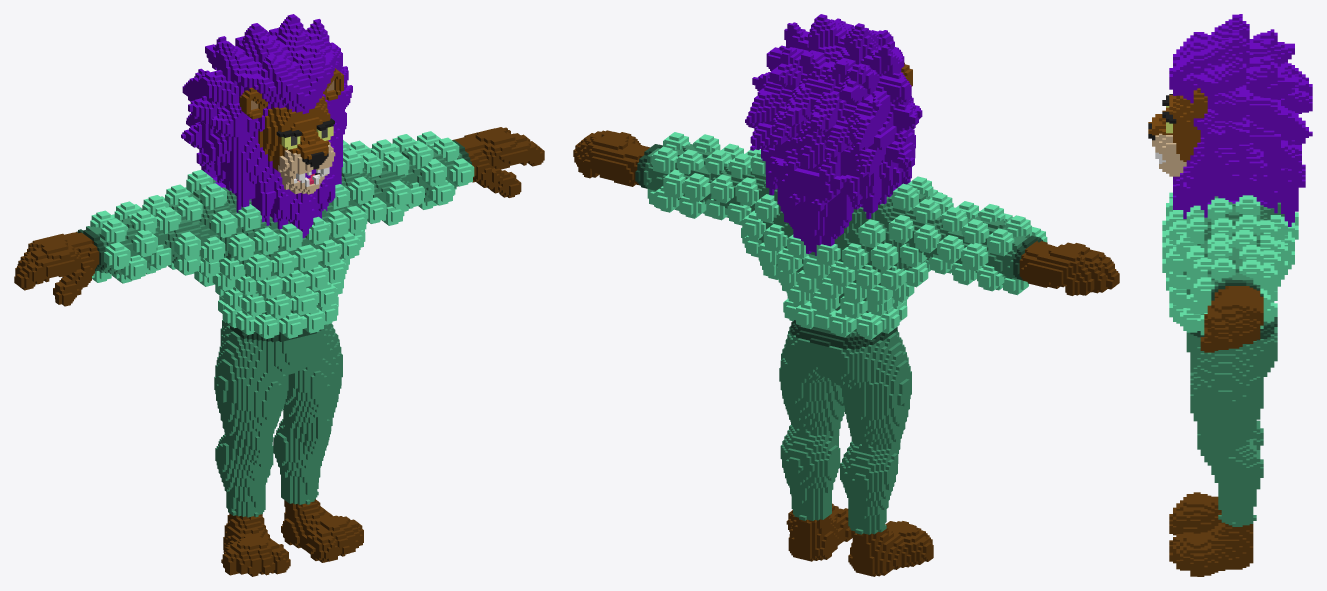
The picture shows the model from 3 angles, left to right: view 1: azimuth 30°, elevation 25°; view 2: azimuth 150°, elevation 25°; view 3: azimuth 270°, elevation 25°; orthographic projection. The views are drawn at different scales.
Visible parts, largest first — view 1: open; view 2: open; view 3: open.
Part boxes in pixels (box(x1,y1,x2,y2)): open: box(14, 14, 544, 576); open: box(573, 14, 1119, 576); open: box(1148, 14, 1312, 576).
Bounding box in the file's own units: 17.2 × 16.5 × 4.7.
5 materials, 5 textured.
